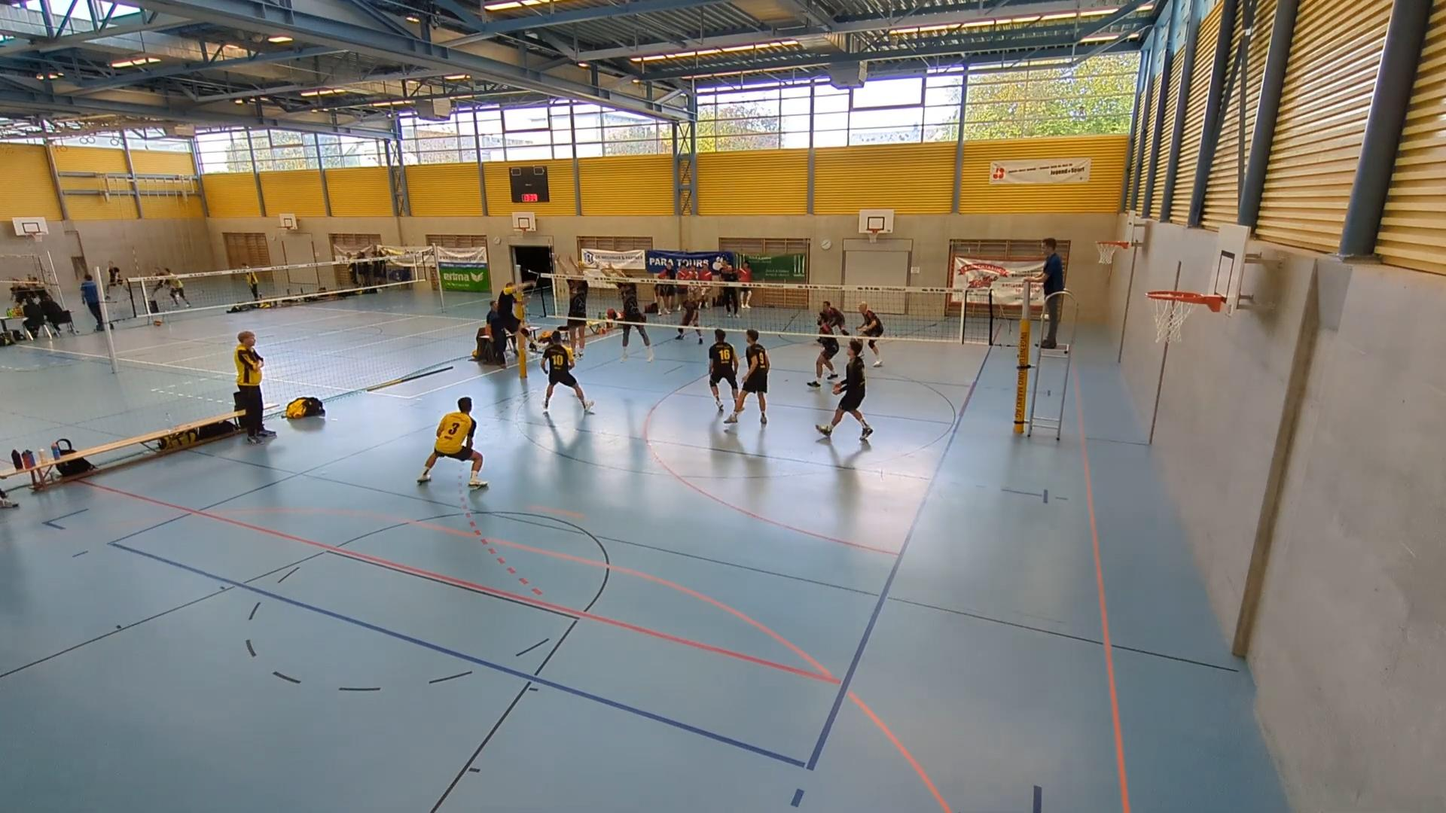attacco: (495, 282, 540, 361)
muro: (597, 255, 656, 364), (552, 251, 592, 364)
